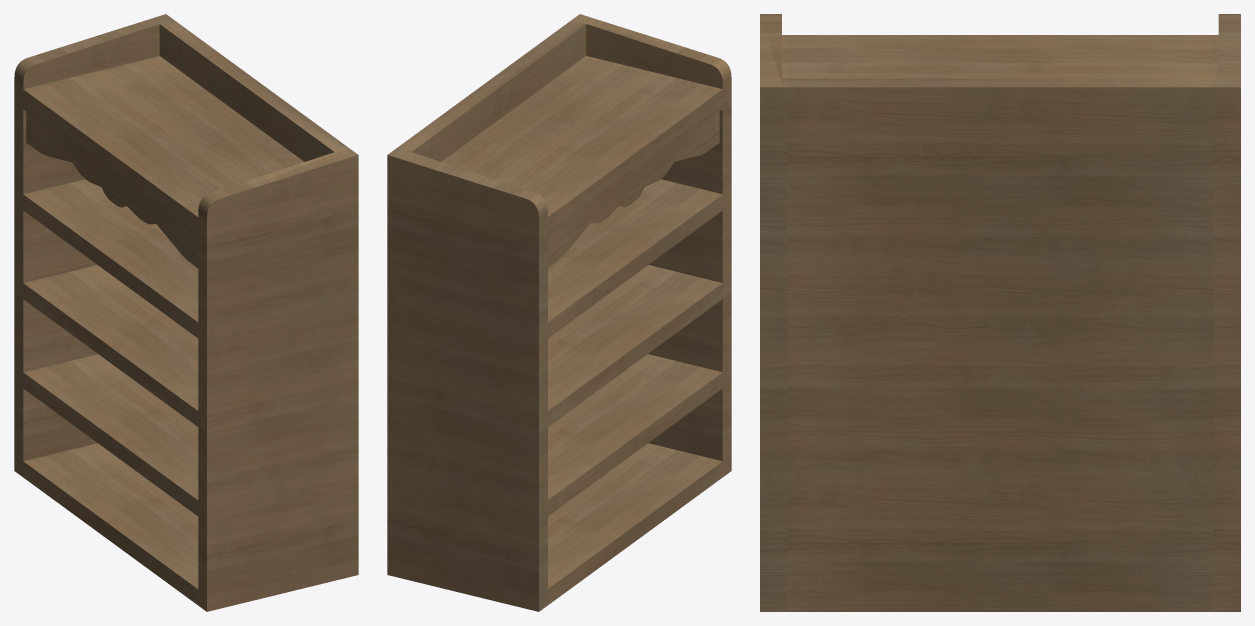
File: shelf.obj
The picture shows the model from 3 angles, left to right: view 1: azimuth 30°, elevation 25°; view 2: azimuth 150°, elevation 25°; view 3: azimuth 270°, elevation 25°; orthographic projection. The views are drawn at different scales.
Visible parts, largest first — view 1: Shelf_Mesh_Wood, Shelf_Mesh_Wood1; view 2: Shelf_Mesh_Wood, Shelf_Mesh_Wood1; view 3: Shelf_Mesh_Wood.
Boxes of the visible parts, <box> form: Shelf_Mesh_Wood: <box>14,14,358,611</box>; Shelf_Mesh_Wood1: <box>26,112,198,268</box>; Shelf_Mesh_Wood: <box>387,14,731,611</box>; Shelf_Mesh_Wood1: <box>548,112,719,267</box>; Shelf_Mesh_Wood: <box>760,14,1240,611</box>.
Bounding box in the file's own units: 0.5 × 1.32 × 1.1.
Materials: 2 (2 with a texture image).
